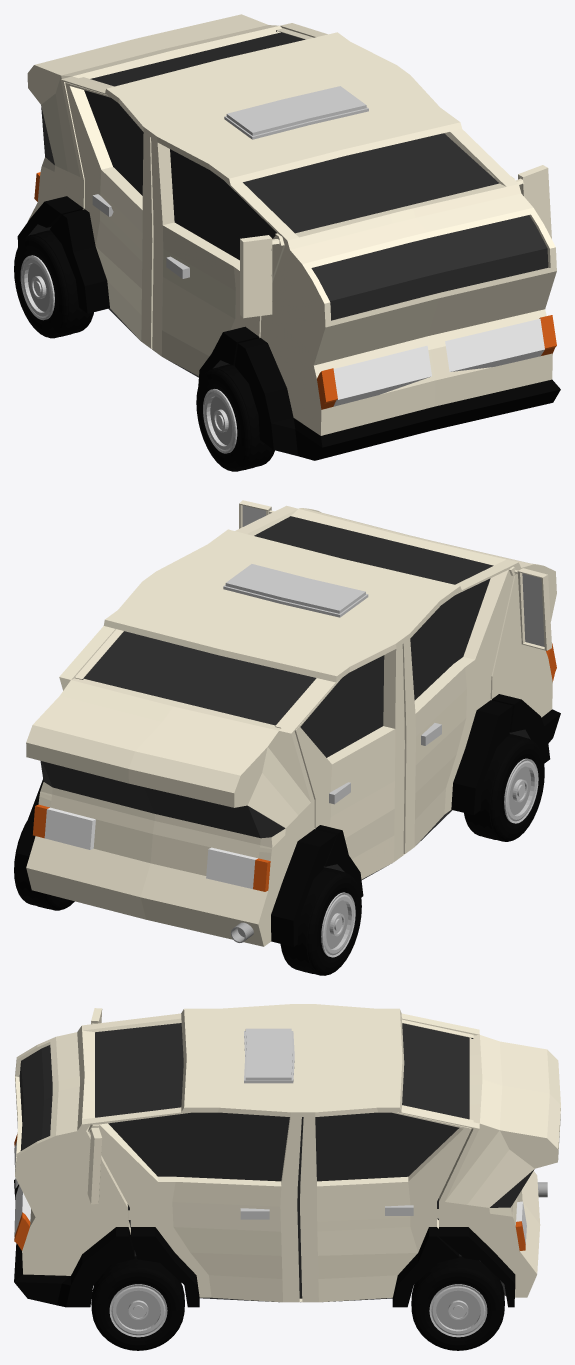
3 renders of one model, top to bottom at view 1: azimuth 30°, elevation 25°; view 2: azimuth 150°, elevation 25°; view 3: azimuth 270°, elevation 25°, orthographic. The views are drawn at different scales.
Visible parts, largest first — view 1: BODY40, WHEEL.004, WHEEL.001; view 2: BODY40, WHEEL.004, WHEEL.001, WHEEL.002; view 3: BODY40, WHEEL.002, WHEEL.003.
Boxes of the visible parts, left/top/right/bottom form: BODY40: left=17, top=14, right=560, bottom=460; WHEEL.004: left=14, top=230, right=93, bottom=338; WHEEL.001: left=196, top=364, right=274, bottom=471; BODY40: left=16, top=500, right=560, bottom=946; WHEEL.004: left=280, top=867, right=361, bottom=975; WHEEL.001: left=464, top=734, right=544, bottom=841; WHEEL.002: left=14, top=821, right=74, bottom=910; BODY40: left=14, top=1004, right=560, bottom=1307; WHEEL.002: left=411, top=1256, right=504, bottom=1350; WHEEL.003: left=91, top=1256, right=184, bottom=1350.
Size of the model in its own units: 131 by 109 by 229.
